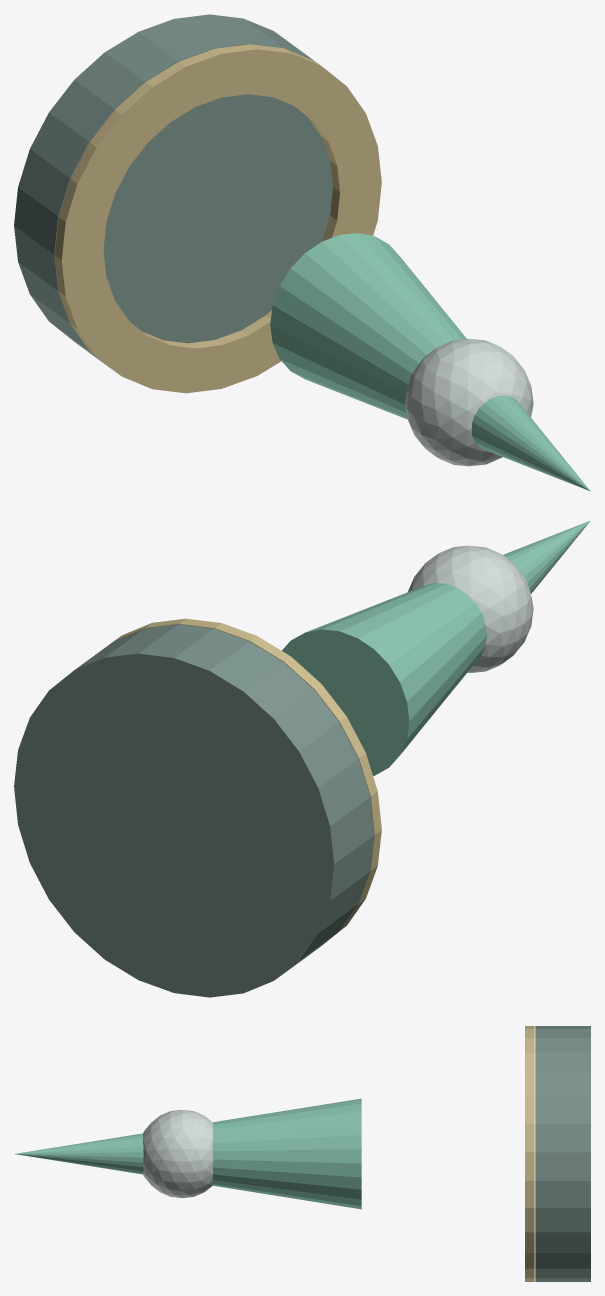
File: mission-beacon-high.glb
3 views of the same model, one above another, from view 1: azimuth 30°, elevation 25°; view 2: azimuth 150°, elevation 25°; view 3: azimuth 270°, elevation 25° (orthographic). The views are drawn at different scales.
Visible parts, largest first — view 1: base, ring, beam, orb; view 2: base, beam, orb, ring; view 3: beam, base, orb, ring.
Boxes of the visible parts, box(x1,y1,x2,y2) form: base: box(14, 14, 332, 368); ring: box(54, 44, 381, 393); beam: box(270, 233, 590, 491); orb: box(405, 339, 533, 466); base: box(14, 624, 374, 997); beam: box(282, 520, 590, 775); orb: box(408, 545, 533, 672); ring: box(115, 618, 381, 948); beam: box(15, 1098, 361, 1209); base: box(535, 1026, 590, 1281); orb: box(143, 1110, 213, 1197); ring: box(525, 1026, 534, 1281).
Size of the model in its own units: 0.92 by 0.92 by 2.08.
